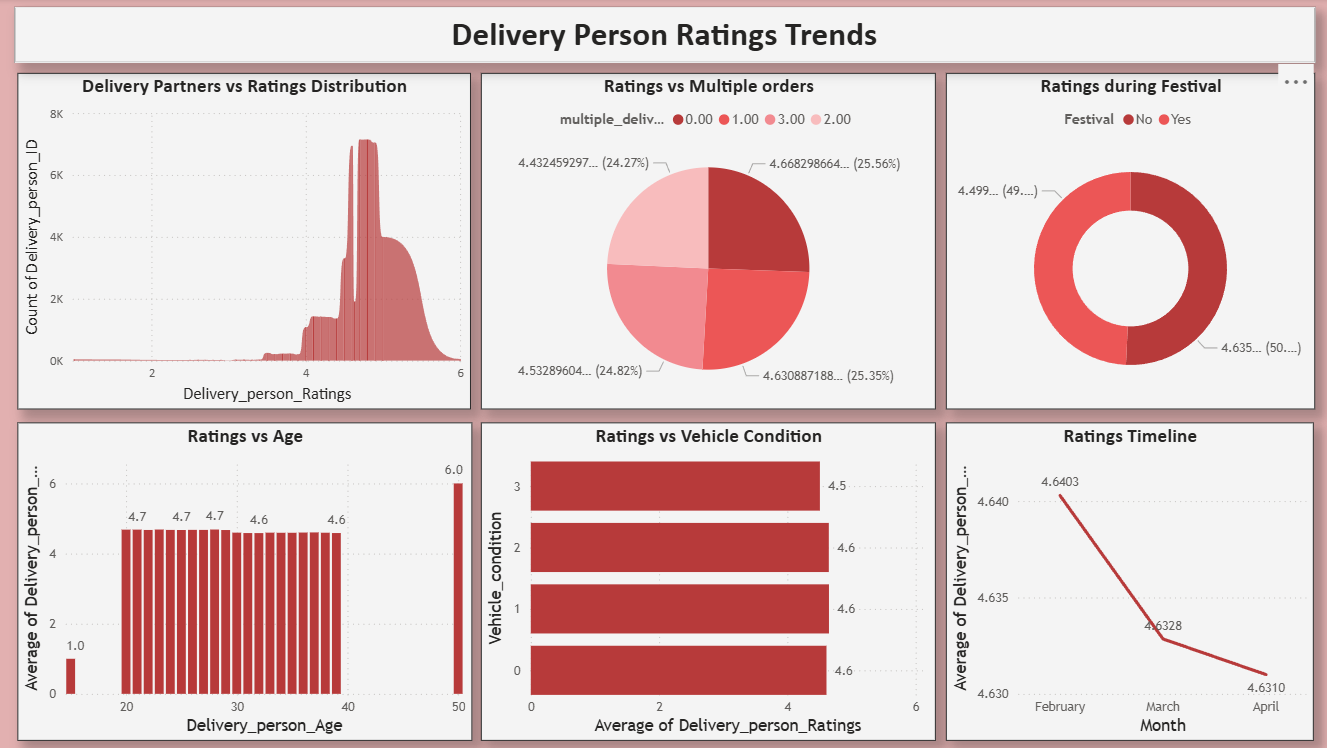

This screenshot's page, from the dashboard's own definition file:
{"tool":"powerbi","page":{"name":"Delivery ratings trends","canvas":[1280,720],"ordinal":3},"visuals":[{"type":"ribbonChart","title":"Delivery Partners vs Ratings Distribution","fields":{"Y":["CountNonNull(zomato_data zomato.Delivery_person_ID)"],"Category":["zomato_data zomato.Delivery_person_Ratings"]},"box":[21.5,71.8,433.7,321.7],"z":0},{"type":"clusteredColumnChart","title":"Ratings vs Age","fields":{"Category":["zomato_data zomato.Delivery_person_Age"],"Y":["Avg(zomato_data zomato.Delivery_person_Ratings)"]},"box":[21.5,406.9,435.1,304.4],"z":1000},{"type":"pieChart","title":"Ratings vs Multiple orders","fields":{"Y":["Avg(zomato_data zomato.Delivery_person_Ratings)"],"Category":["zomato_data zomato.multiple_deliveries"]},"box":[465.3,71.8,435.1,321.7],"z":2000},{"type":"clusteredBarChart","title":"Ratings vs City","fields":{"Y":["Avg(zomato_data zomato.Delivery_person_Ratings)"],"Category":["zomato_data zomato.City"]},"box":[465.3,406.9,435.1,304.4],"z":3000},{"type":"columnChart","title":"Ratings during Festival","fields":{"Category":["zomato_data zomato.Festival"],"Y":["Avg(zomato_data zomato.Delivery_person_Ratings)"]},"box":[910.5,71.8,353.3,321.7],"z":4000},{"type":"lineChart","title":"Ratings Timeline","fields":{"Category":["zomato_data zomato.Order_Date.Variation.Date Hierarchy.Month"],"Y":["Avg(zomato_data zomato.Delivery_person_Ratings)"]},"box":[910.5,406.4,351.8,304.4],"z":5000},{"type":"textbox","box":[18.7,8.6,1245.1,53.1],"z":6000}]}

Visuals, with their boxes in screenshot pixels (x1, y1, x2, y2), scaled from the page's 1280x720 canvas onto the 1327x748 screenshot:
"Delivery Partners vs Ratings Distribution" ribbonChart: [left=22, top=75, right=472, bottom=409]
"Ratings vs Age" clusteredColumnChart: [left=22, top=423, right=473, bottom=739]
"Ratings vs Multiple orders" pieChart: [left=482, top=75, right=933, bottom=409]
"Ratings vs City" clusteredBarChart: [left=482, top=423, right=933, bottom=739]
"Ratings during Festival" columnChart: [left=944, top=75, right=1310, bottom=409]
"Ratings Timeline" lineChart: [left=944, top=422, right=1309, bottom=738]
textbox: [left=19, top=9, right=1310, bottom=64]
